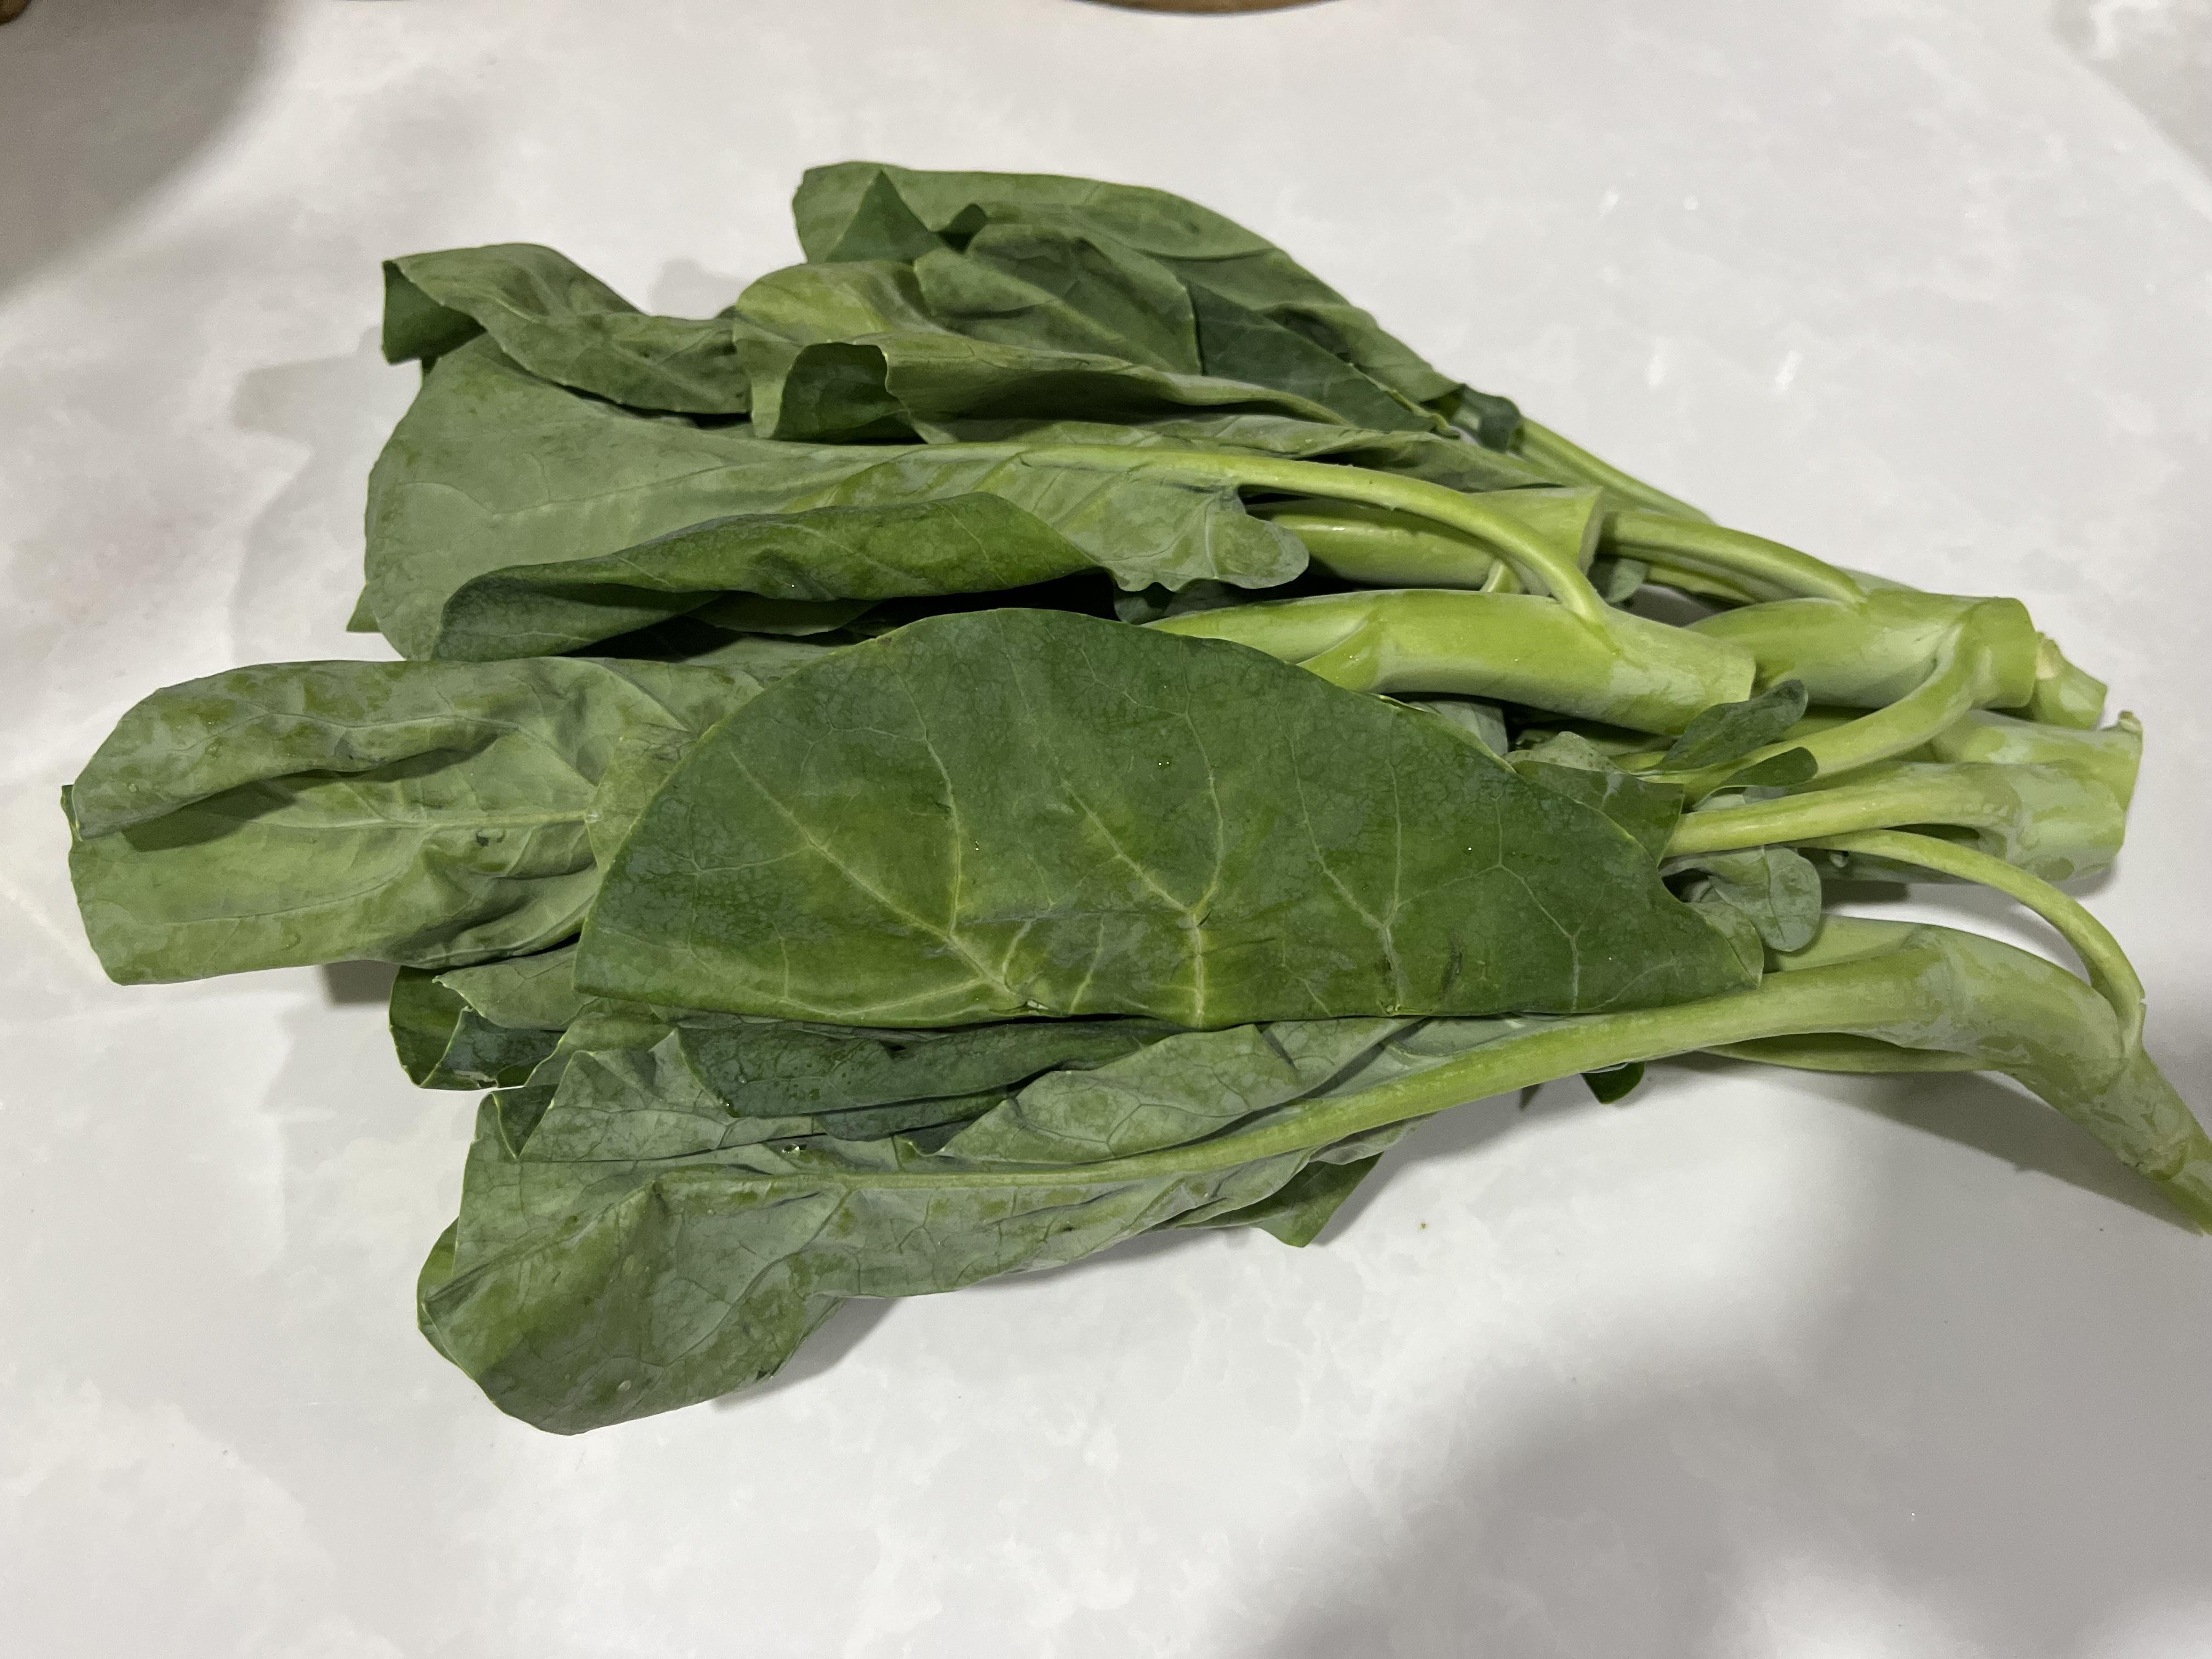Healthy-Pechay: (258, 61, 2118, 1349)
